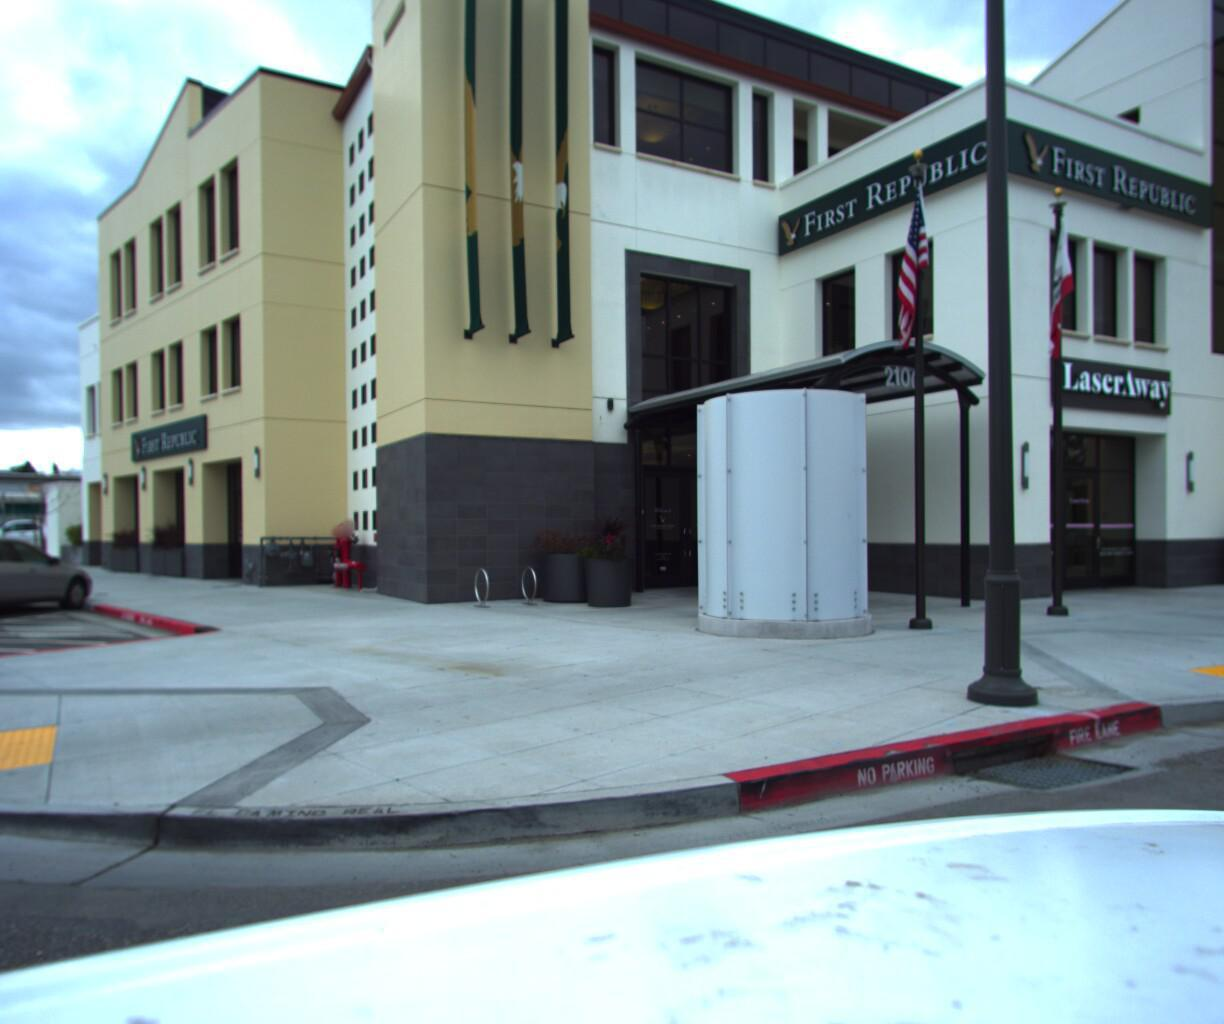car: (0, 521, 104, 621), (0, 520, 58, 603), (0, 510, 97, 549), (0, 521, 5, 588)
